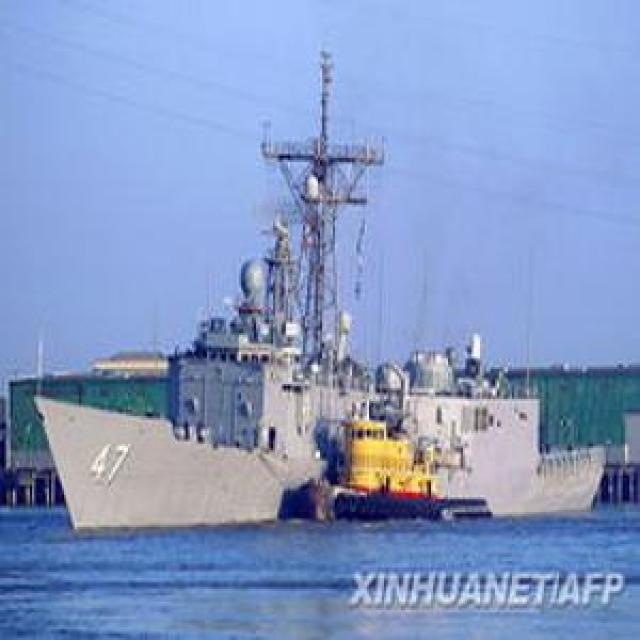navalvessels: (36, 128, 600, 526), (291, 407, 491, 524)
